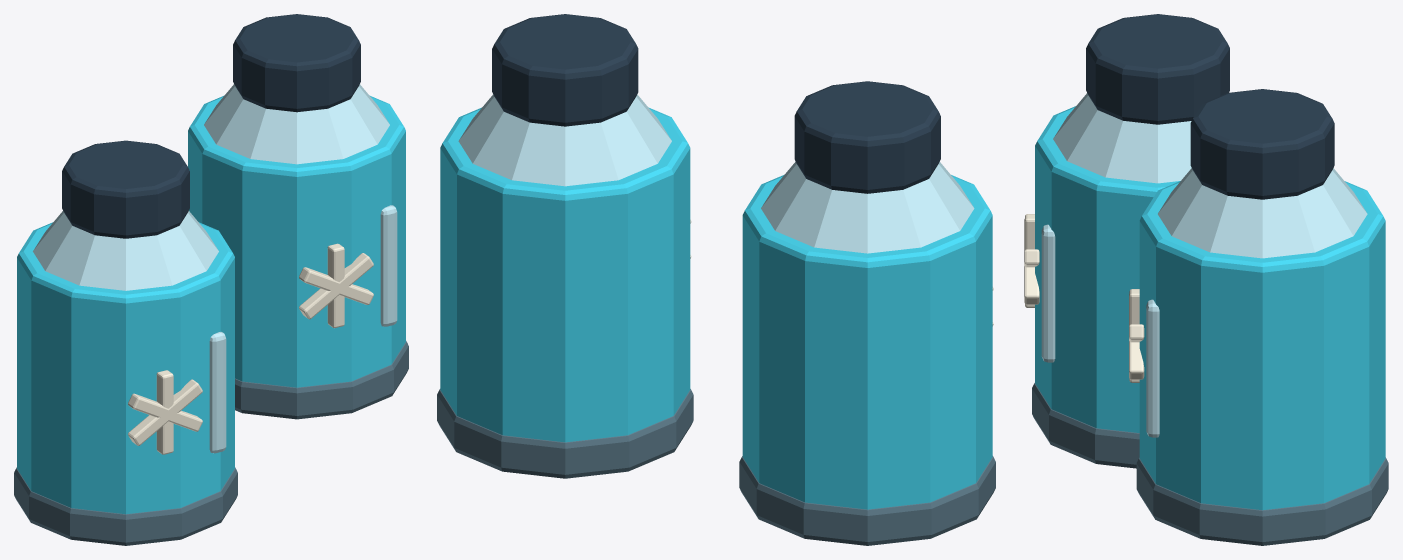
File: cooling_fluid_item.glb
The picture shows the model from 3 angles, left to right: view 1: azimuth 30°, elevation 25°; view 2: azimuth 150°, elevation 25°; view 3: azimuth 270°, elevation 25°; orthographic projection. The views are drawn at different scales.
Parts seen in each view (by area): view 1: Coolant canister, Coolant canister.001, Safety screw cap, Safety screw cap.001, Bottle shoulder, Bottle shoulder.001, Canister foot, Canister foot.001, Liquid gauge.001, Liquid gauge, Snowflake diagonal A, Snowflake diagonal A.001 (+4 smaller); view 2: Coolant canister.001, Coolant canister, Safety screw cap, Safety screw cap.001, Bottle shoulder.001, Bottle shoulder, Canister foot, Canister foot.001; view 3: Coolant canister.001, Coolant canister, Safety screw cap.001, Safety screw cap, Bottle shoulder.001, Canister foot.001, Bottle shoulder, Canister foot, Liquid gauge, Liquid gauge.001, Snowflake diagonal B, Snowflake diagonal B.001.
Part boxes in pixels (x1,y1,x2,y2): Coolant canister: [17, 222, 234, 514]; Coolant canister.001: [188, 95, 405, 387]; Safety screw cap: [62, 140, 189, 238]; Safety screw cap.001: [233, 14, 360, 112]; Bottle shoulder: [33, 211, 218, 290]; Bottle shoulder.001: [204, 84, 389, 164]; Canister foot: [14, 467, 237, 545]; Canister foot.001: [235, 341, 408, 419]; Liquid gauge.001: [380, 205, 397, 326]; Liquid gauge: [209, 332, 226, 453]; Snowflake diagonal A: [128, 379, 202, 445]; Snowflake diagonal A.001: [299, 253, 373, 319]; Coolant canister.001: [440, 107, 690, 442]; Coolant canister: [742, 175, 992, 509]; Safety screw cap: [794, 81, 940, 193]; Safety screw cap.001: [492, 14, 638, 126]; Bottle shoulder.001: [458, 94, 671, 186]; Bottle shoulder: [761, 162, 974, 253]; Canister foot: [739, 456, 995, 545]; Canister foot.001: [437, 389, 693, 478]; Coolant canister.001: [1139, 181, 1385, 510]; Coolant canister: [1035, 106, 1179, 432]; Safety screw cap.001: [1190, 89, 1334, 199]; Safety screw cap: [1086, 14, 1229, 124]; Bottle shoulder.001: [1158, 168, 1367, 258]; Canister foot.001: [1136, 457, 1388, 545]; Bottle shoulder: [1053, 93, 1191, 183]; Canister foot: [1032, 383, 1139, 468]; Liquid gauge: [1041, 224, 1055, 362]; Liquid gauge.001: [1146, 299, 1159, 437]; Snowflake diagonal B: [1024, 219, 1039, 304]; Snowflake diagonal B.001: [1129, 294, 1144, 379].
Size of the model in its own units: 0.87 by 0.76 by 0.5925.
